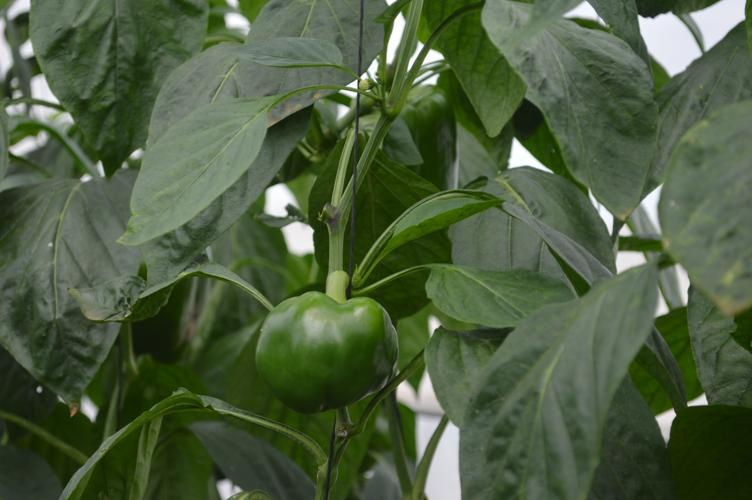BellPepper: (252, 294, 401, 410), (374, 88, 459, 191)
